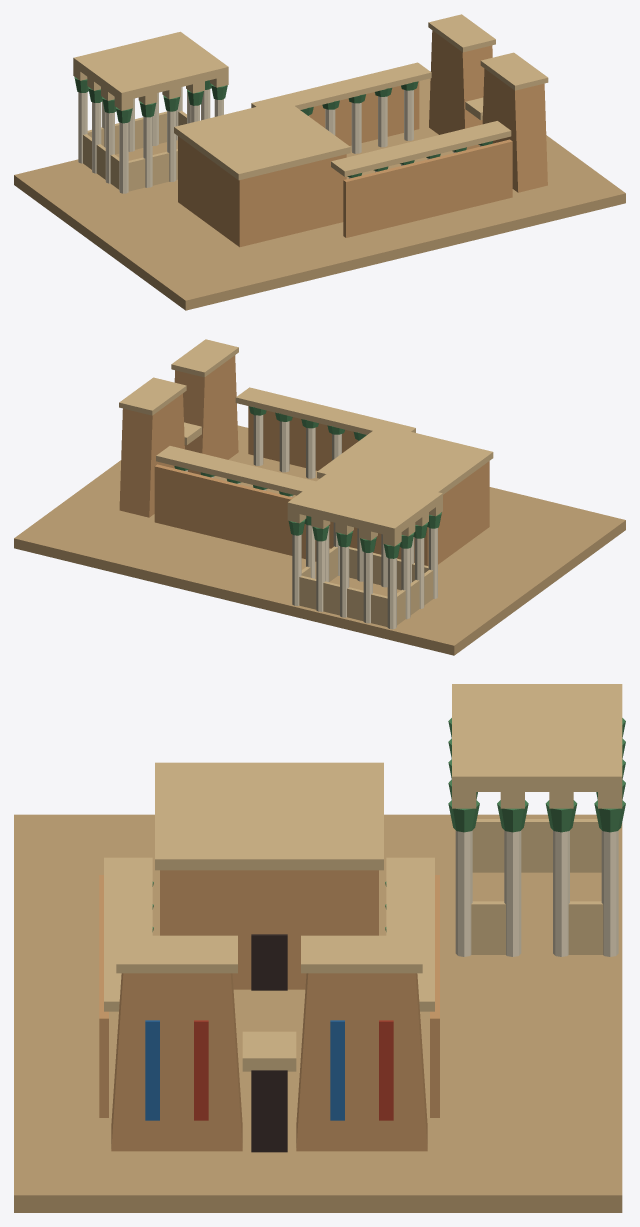
File: philae.glb
3 views of the same model, one above another, from view 1: azimuth 30°, elevation 25°; view 2: azimuth 150°, elevation 25°; view 3: azimuth 270°, elevation 25° (orthographic). The views are drawn at different scales.
Parts seen in each view (by area): view 1: philae; view 2: philae; view 3: philae.
Boxes of the visible parts, left/top/right/bottom form: philae: left=14, top=14, right=625, bottom=310; philae: left=14, top=339, right=625, bottom=655; philae: left=14, top=684, right=625, bottom=1212.
Bounding box in the file's own units: 74 × 18.7 × 50.3.
